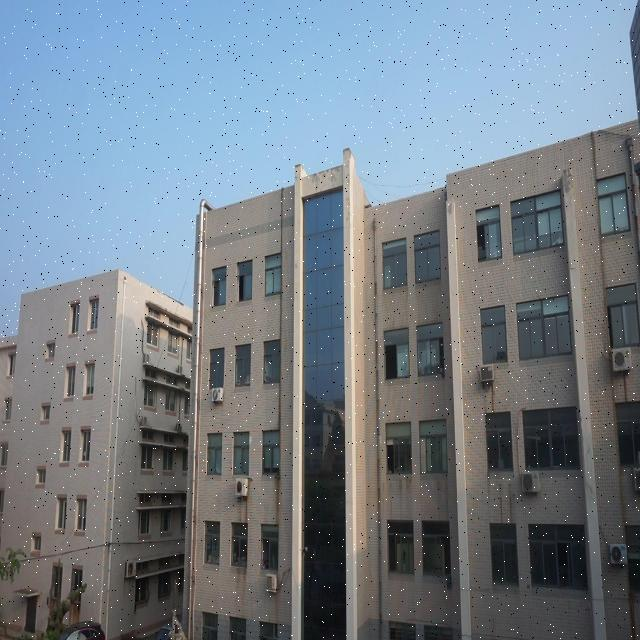UAV: (300, 547, 308, 556)
